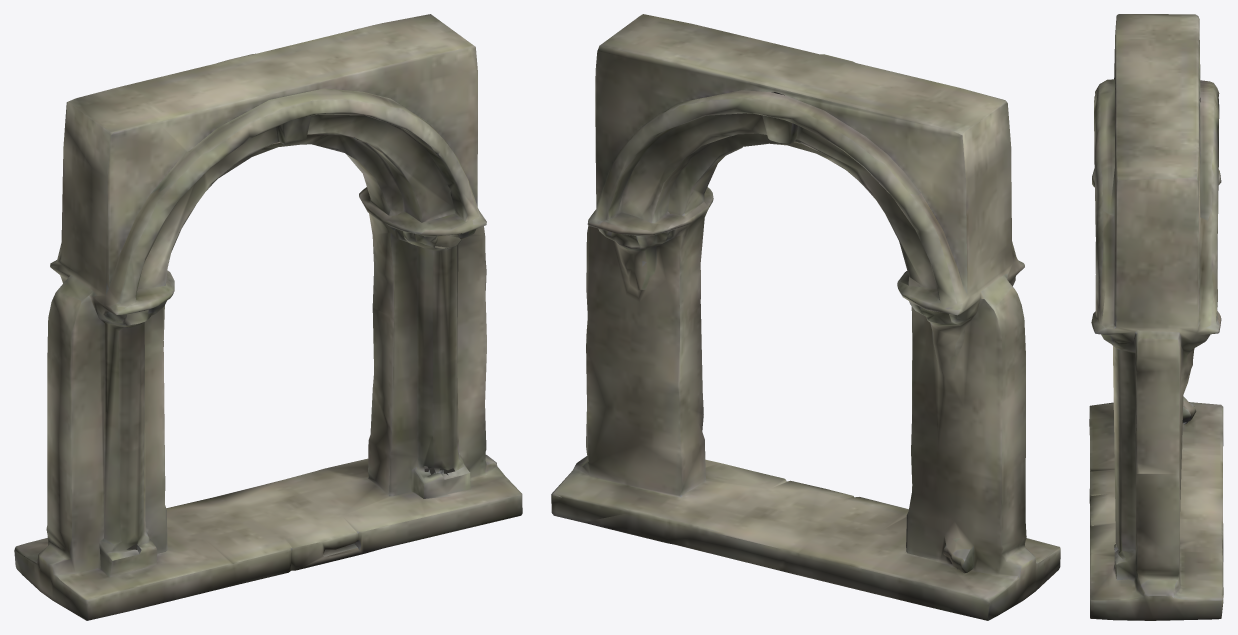
Rendered from ancient-limestone-arched-doorway-v001.glb.
3 renders of one model, left to right at view 1: azimuth 30°, elevation 25°; view 2: azimuth 150°, elevation 25°; view 3: azimuth 270°, elevation 25°, orthographic. The views are drawn at different scales.
Parts seen in each view (by area): view 1: ancient-limestone-arched-doorway; view 2: ancient-limestone-arched-doorway; view 3: ancient-limestone-arched-doorway.
Boxes of the visible parts, left/top/right/bottom form: ancient-limestone-arched-doorway: left=14, top=14, right=522, bottom=620; ancient-limestone-arched-doorway: left=551, top=14, right=1060, bottom=620; ancient-limestone-arched-doorway: left=1089, top=14, right=1223, bottom=620.
Size of the model in its own units: 3.06 by 3.08 by 0.87.
Materials: 1 (1 with a texture image).
